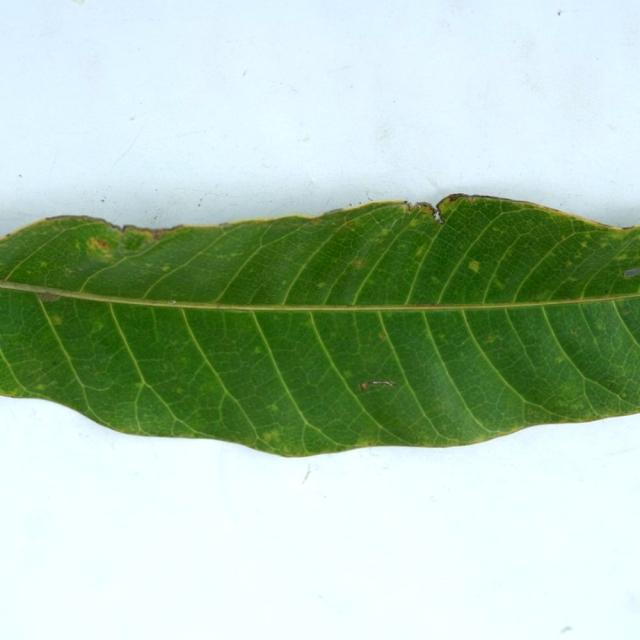Mango: (0, 195, 639, 455)
Powdery_Mildew: (86, 234, 116, 260), (465, 255, 484, 278), (359, 380, 397, 391), (123, 234, 144, 250), (36, 291, 60, 301), (261, 430, 279, 443), (623, 267, 640, 278), (408, 216, 425, 227), (414, 245, 428, 258), (95, 238, 109, 249), (51, 316, 63, 326), (352, 260, 366, 268), (268, 403, 280, 412), (594, 321, 606, 330), (484, 335, 496, 344), (133, 381, 146, 389), (253, 345, 263, 355), (94, 321, 104, 331), (495, 281, 506, 290), (315, 281, 327, 288), (556, 356, 566, 364), (378, 332, 388, 340), (160, 265, 171, 272), (229, 252, 241, 258), (343, 369, 352, 377), (360, 382, 368, 391), (430, 276, 440, 283), (35, 384, 46, 390), (565, 260, 574, 267), (580, 241, 588, 248), (176, 387, 184, 394), (437, 333, 446, 339), (568, 277, 578, 282), (39, 261, 47, 267), (282, 279, 288, 286), (145, 262, 153, 267), (621, 392, 628, 397)
